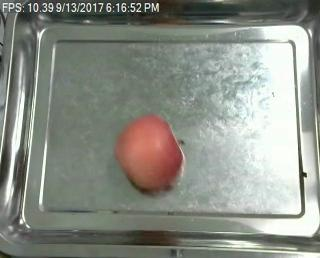apple: (114, 114, 186, 193)
